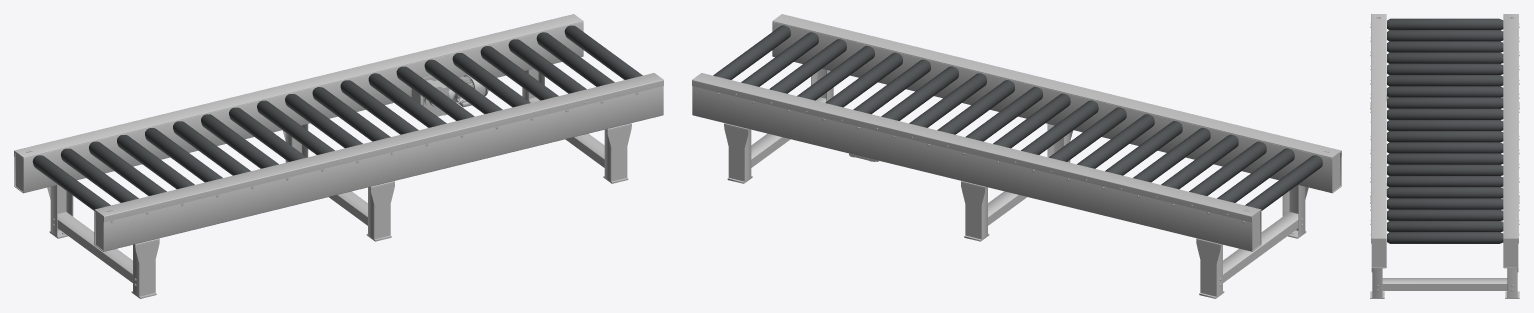
Rendered from RollerConveyor4M.FBX.
3 views of the same model, side by side, from view 1: azimuth 30°, elevation 25°; view 2: azimuth 150°, elevation 25°; view 3: azimuth 270°, elevation 25° (orthographic). The views are drawn at different scales.
Visible parts, largest first — view 1: RollerConveyor4M, RollerConveyor_Bearing; view 2: RollerConveyor4M, RollerConveyor_Bearing; view 3: RollerConveyor_Bearing, RollerConveyor4M.
Boxes of the visible parts, box(x1,y1,x2,y2) form: RollerConveyor4M: box(14, 14, 663, 298); RollerConveyor_Bearing: box(32, 25, 642, 210); RollerConveyor4M: box(692, 14, 1341, 298); RollerConveyor_Bearing: box(713, 25, 1322, 210); RollerConveyor_Bearing: box(1387, 18, 1503, 243); RollerConveyor4M: box(1370, 14, 1519, 298).
Size of the model in its own units: 4 by 0.6235 by 1.12.
